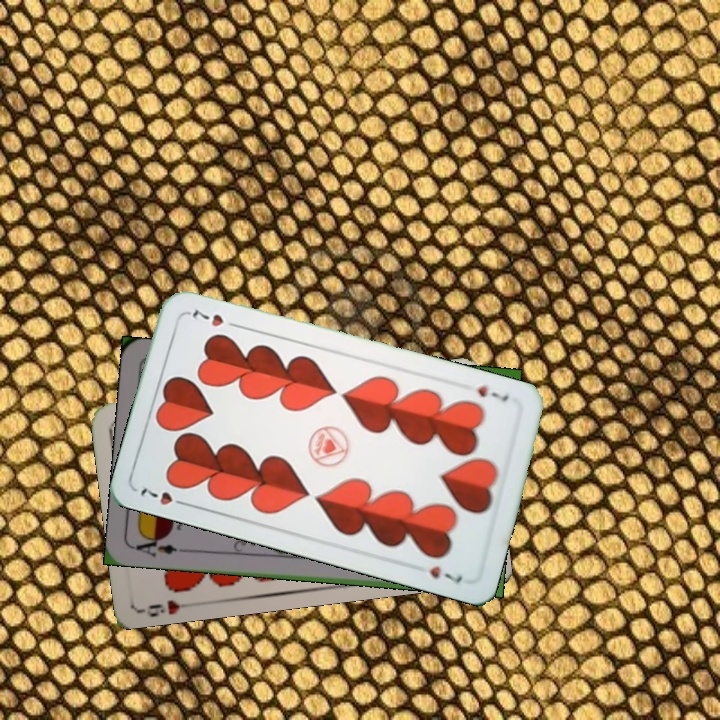EA: (130, 532, 189, 560)
H7: (136, 484, 192, 509), (472, 381, 512, 405)
H9: (145, 596, 183, 618)
